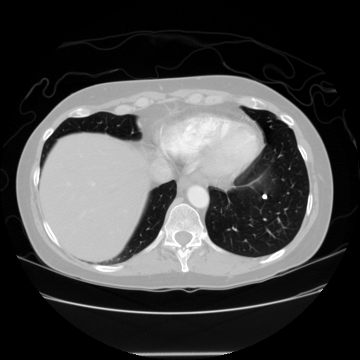nodule: (262, 193, 268, 199)
